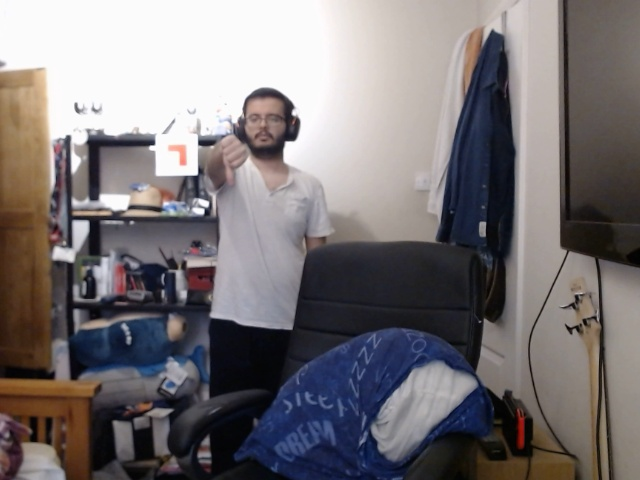Thumbs down: (219, 131, 251, 198)
